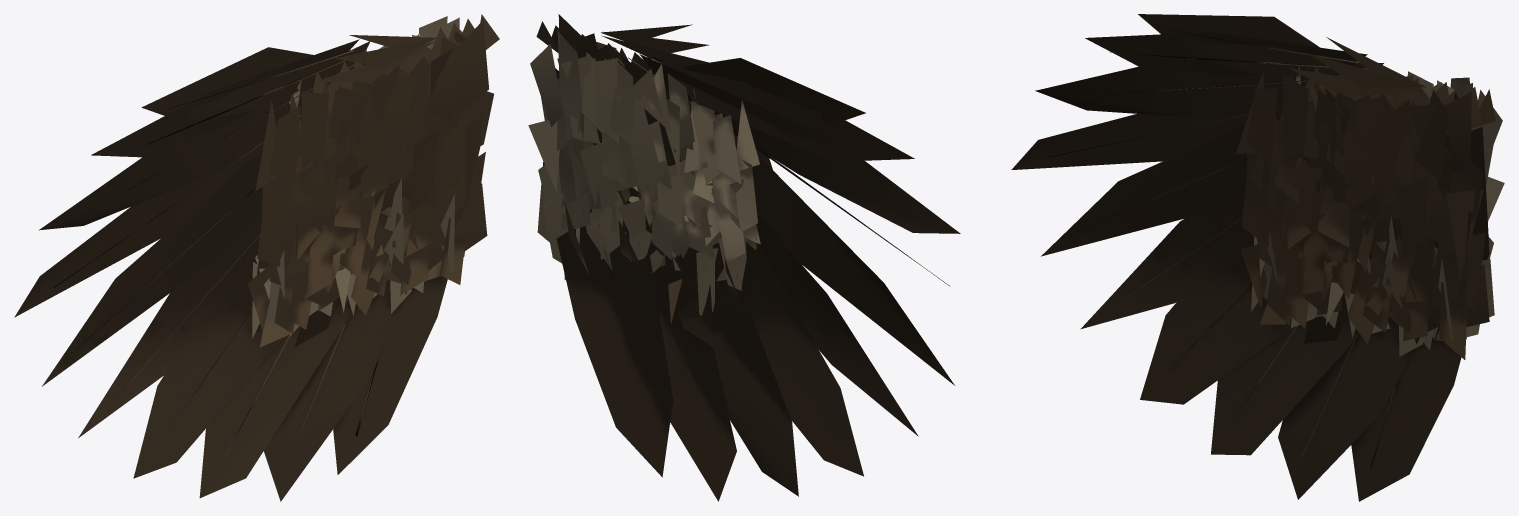
The model's file is bird_wrist_left.obj.
3 renders of one model, left to right at view 1: azimuth 30°, elevation 25°; view 2: azimuth 150°, elevation 25°; view 3: azimuth 330°, elevation 25°, orthographic. The views are drawn at different scales.
Visible parts, largest first — view 1: PIECE_BIRD_WRIST_-1; view 2: PIECE_BIRD_WRIST_-1; view 3: PIECE_BIRD_WRIST_-1.
Part boxes in pixels (x1=…): PIECE_BIRD_WRIST_-1: x1=14, y1=14, x2=499, y2=501; PIECE_BIRD_WRIST_-1: x1=528, y1=14, x2=960, y2=501; PIECE_BIRD_WRIST_-1: x1=1011, y1=14, x2=1504, y2=501.
Bounding box in the file's own units: 0.3116 × 0.2949 × 0.0307.
1 material, 1 textured.
